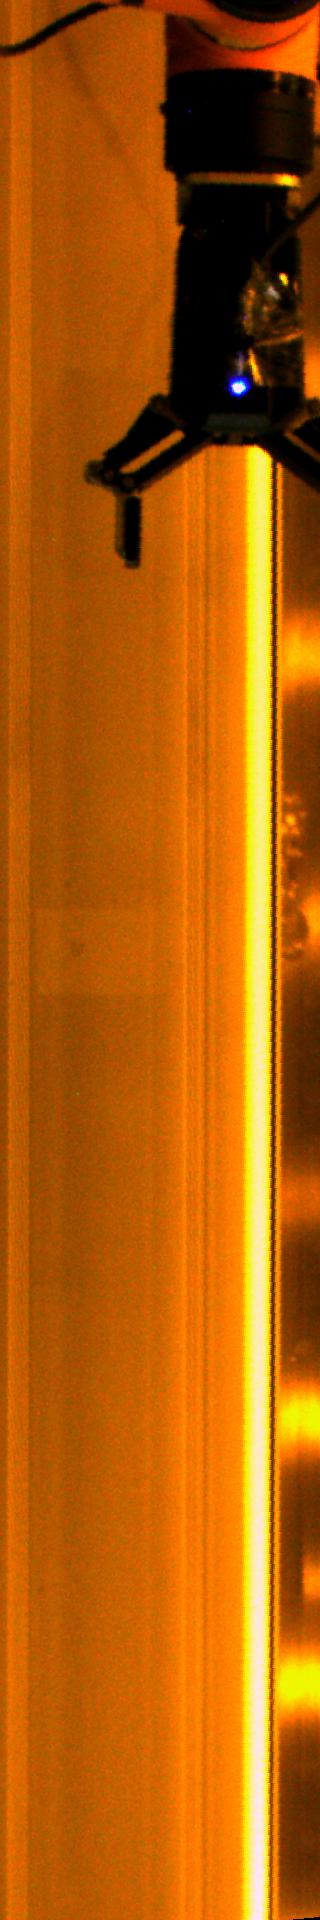keyPoint_1: (224, 373, 254, 403)
